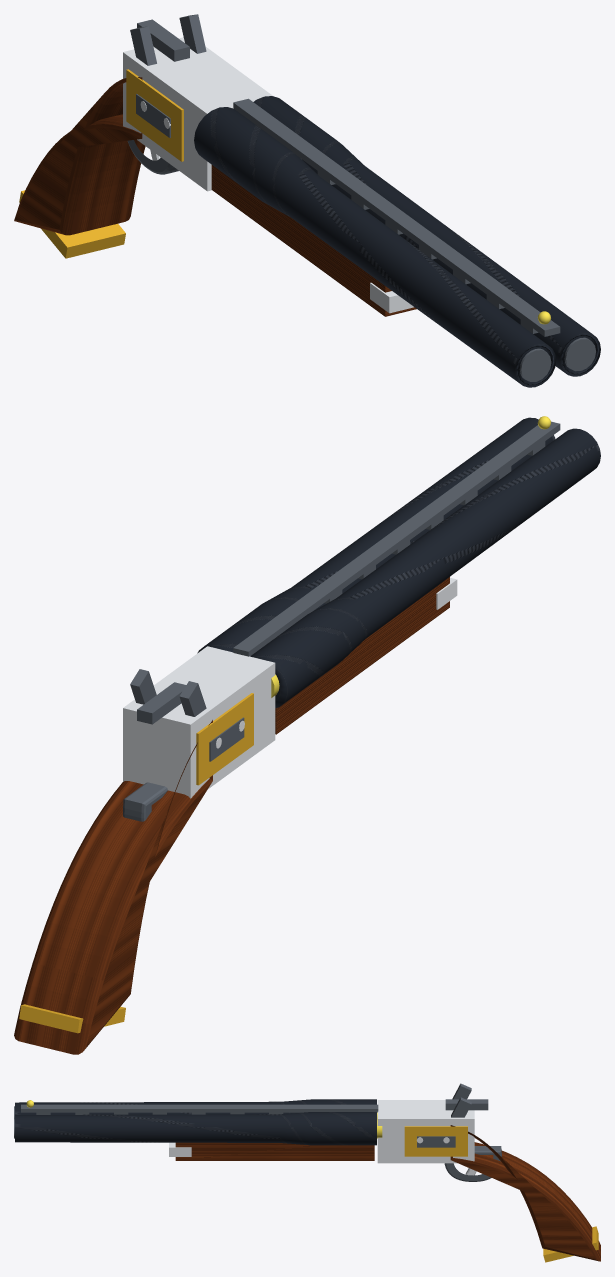
File: double_barrel_shotgun.glb
3 renders of one model, top to bottom at view 1: azimuth 30°, elevation 25°; view 2: azimuth 150°, elevation 25°; view 3: azimuth 270°, elevation 25°, orthographic. The views are drawn at different scales.
Visible parts, largest first — view 1: Shotgun_Barrels_metalPrimary, Shotgun_Receiver_wood, Shotgun_Barrels_metalDark, Shotgun_Receiver_metalChrome, Shotgun_Barrels_wood, Shotgun_Receiver_accent, Shotgun_Receiver_metalDark, BreakLever_metalDark, HammerL_metalDark, HammerR_metalDark, Shotgun_Barrels_metalChrome; view 2: Shotgun_Barrels_metalPrimary, Shotgun_Receiver_wood, Shotgun_Receiver_metalChrome, Shotgun_Barrels_metalDark, Shotgun_Barrels_wood, Shotgun_Receiver_accent, Shotgun_Receiver_metalDark, BreakLever_metalDark; view 3: Shotgun_Barrels_metalPrimary, Shotgun_Receiver_wood, Shotgun_Receiver_metalChrome, Shotgun_Barrels_metalDark, Shotgun_Barrels_wood, Shotgun_Receiver_accent, Shotgun_Receiver_metalDark, BreakLever_metalDark, HammerR_metalDark, Shotgun_Barrels_metalChrome.
Part boxes in pixels (x1=…): Shotgun_Barrels_metalPrimary: x1=194, y1=96, x2=600, y2=387; Shotgun_Receiver_wood: x1=14, y1=77, x2=145, y2=235; Shotgun_Barrels_metalDark: x1=233, y1=98, x2=595, y2=381; Shotgun_Receiver_metalChrome: x1=123, y1=37, x2=273, y2=191; Shotgun_Barrels_wood: x1=211, y1=165, x2=416, y2=316; Shotgun_Receiver_accent: x1=19, y1=69, x2=183, y2=258; Shotgun_Receiver_metalDark: x1=127, y1=94, x2=178, y2=174; BreakLever_metalDark: x1=137, y1=19, x2=189, y2=61; HammerL_metalDark: x1=130, y1=26, x2=156, y2=65; HammerR_metalDark: x1=179, y1=14, x2=206, y2=53; Shotgun_Barrels_metalChrome: x1=370, y1=282, x2=413, y2=313; Shotgun_Barrels_metalPrimary: x1=197, y1=417, x2=600, y2=708; Shotgun_Receiver_wood: x1=14, y1=720, x2=212, y2=1054; Shotgun_Receiver_metalChrome: x1=123, y1=646, x2=275, y2=798; Shotgun_Barrels_metalDark: x1=233, y1=421, x2=560, y2=656; Shotgun_Barrels_wood: x1=275, y1=577, x2=449, y2=734; Shotgun_Receiver_accent: x1=19, y1=693, x2=253, y2=1033; Shotgun_Receiver_metalDark: x1=123, y1=717, x2=244, y2=821; BreakLever_metalDark: x1=137, y1=682, x2=186, y2=724; Shotgun_Barrels_metalPrimary: x1=15, y1=1099, x2=376, y2=1145; Shotgun_Receiver_wood: x1=450, y1=1125, x2=600, y2=1261; Shotgun_Receiver_metalChrome: x1=377, y1=1100, x2=476, y2=1175; Shotgun_Barrels_metalDark: x1=14, y1=1104, x2=378, y2=1138; Shotgun_Barrels_wood: x1=175, y1=1142, x2=374, y2=1160; Shotgun_Receiver_accent: x1=404, y1=1126, x2=598, y2=1262; Shotgun_Receiver_metalDark: x1=417, y1=1136, x2=501, y2=1181; BreakLever_metalDark: x1=445, y1=1099, x2=488, y2=1110; HammerR_metalDark: x1=451, y1=1097, x2=471, y2=1117; Shotgun_Barrels_metalChrome: x1=169, y1=1142, x2=191, y2=1156.
Bounding box in the file's own units: 0.062 × 0.1762 × 0.5754.
Materials: 6 (2 with a texture image).
